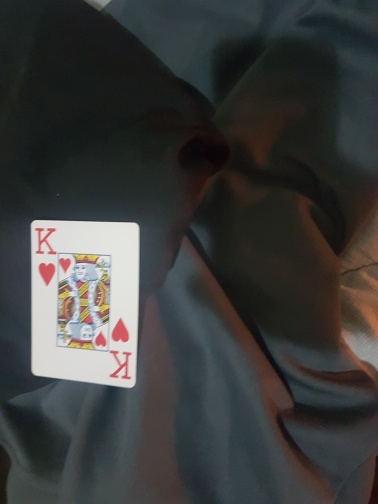king: (29, 219, 140, 388)
